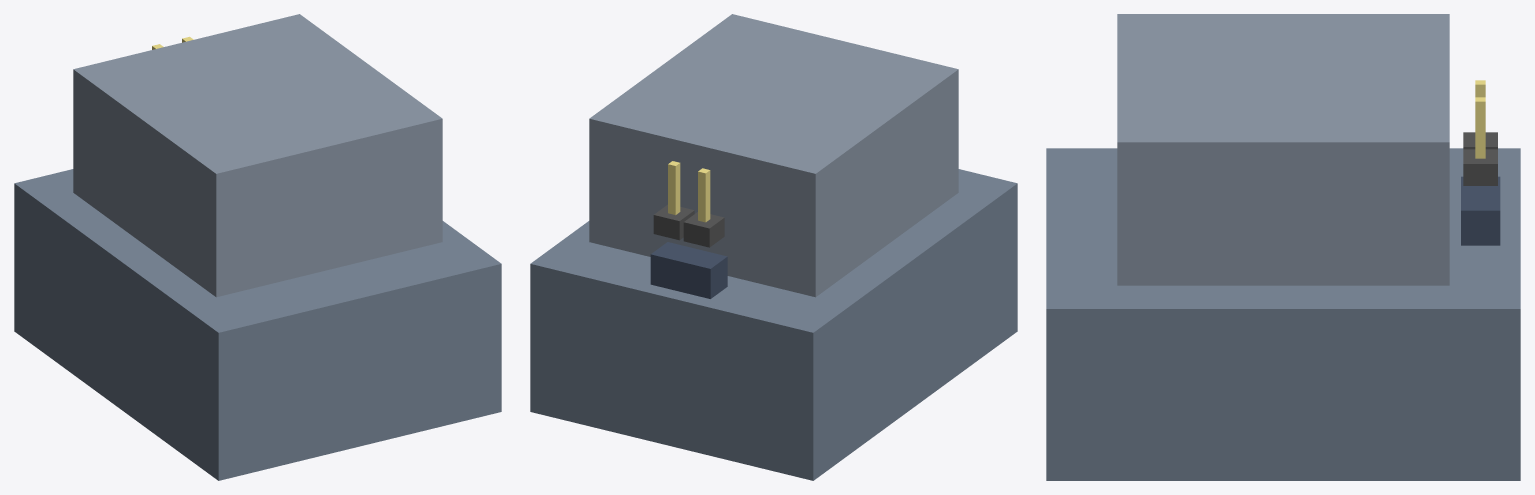
File: linear-actuator-12v-100mm.glb
3 renders of one model, left to right at view 1: azimuth 30°, elevation 25°; view 2: azimuth 150°, elevation 25°; view 3: azimuth 270°, elevation 25°, orthographic. The views are drawn at different scales.
Parts seen in each view (by area): view 1: linear-actuator-12v-100mm_mesh; view 2: linear-actuator-12v-100mm_mesh; view 3: linear-actuator-12v-100mm_mesh.
Part boxes in pixels (x1=…): linear-actuator-12v-100mm_mesh: x1=14, y1=14, x2=501, y2=480; linear-actuator-12v-100mm_mesh: x1=530, y1=14, x2=1017, y2=480; linear-actuator-12v-100mm_mesh: x1=1046, y1=14, x2=1520, y2=480.
Bounding box in the file's own units: 24 × 22.5 × 30.
